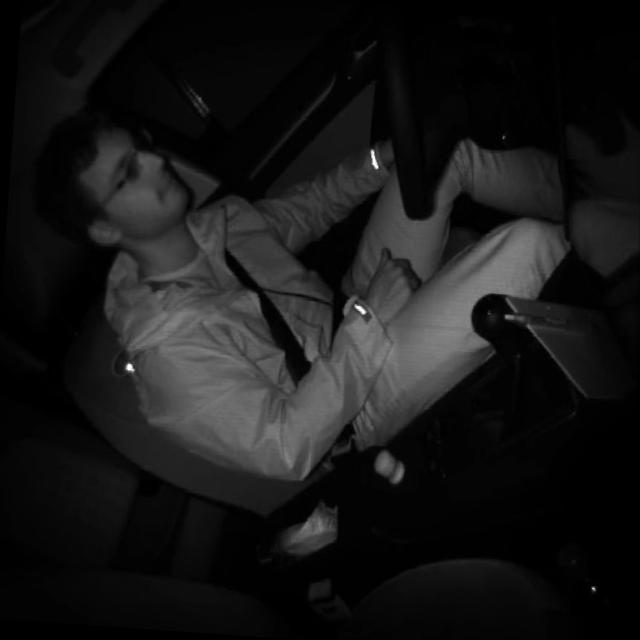pen: (502, 310, 604, 332)
